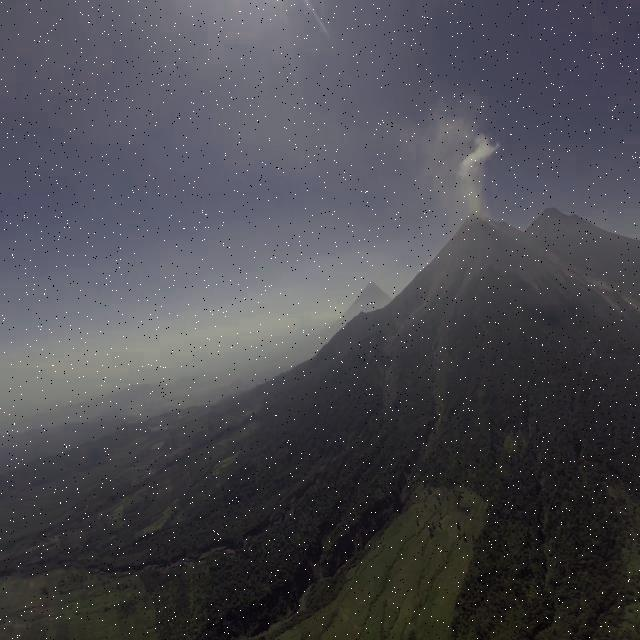Plume: (454, 130, 498, 220)
Summit: (458, 208, 500, 246)
